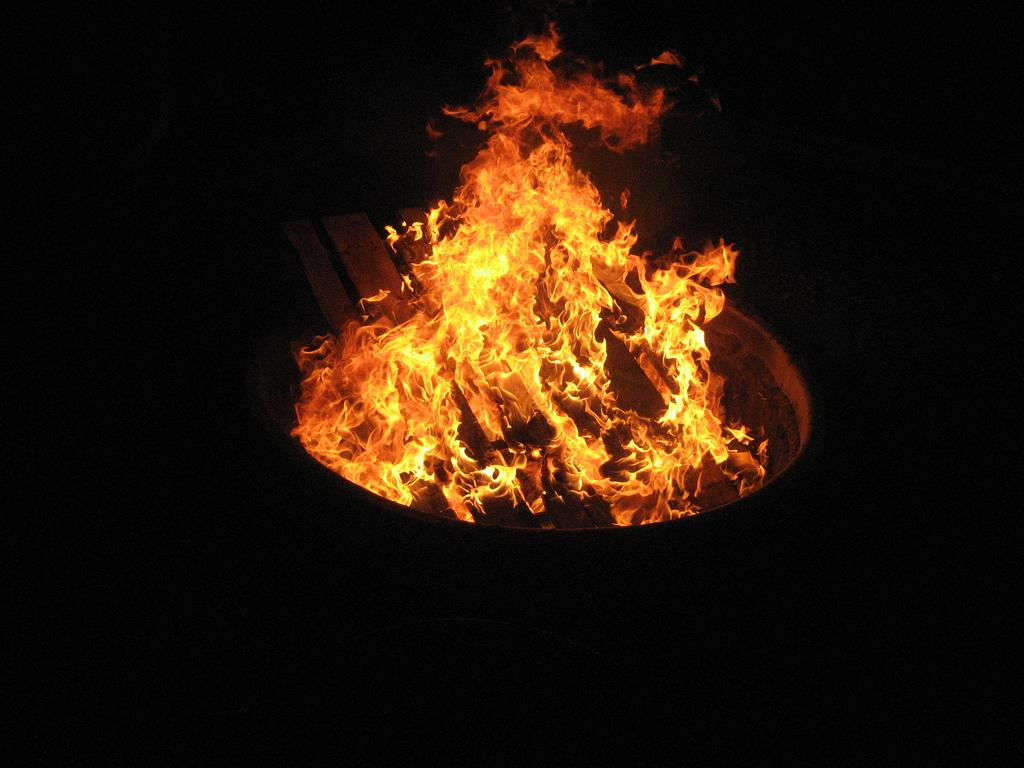fire: (458, 184, 542, 366), (330, 348, 442, 476)
